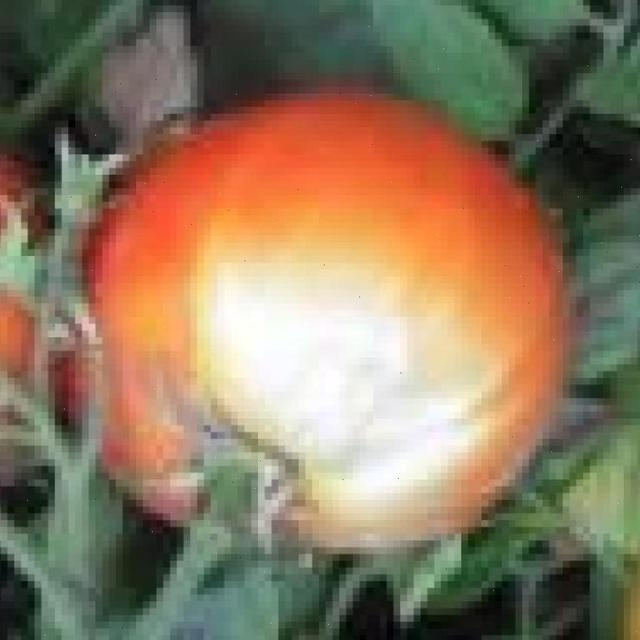Sunscald Fruit: (124, 146, 350, 358)
